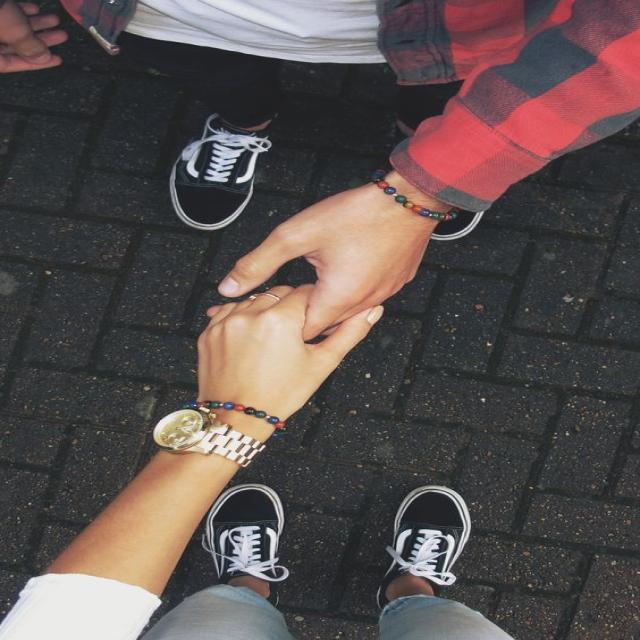Nail: (366, 305, 385, 327), (216, 276, 237, 295)
